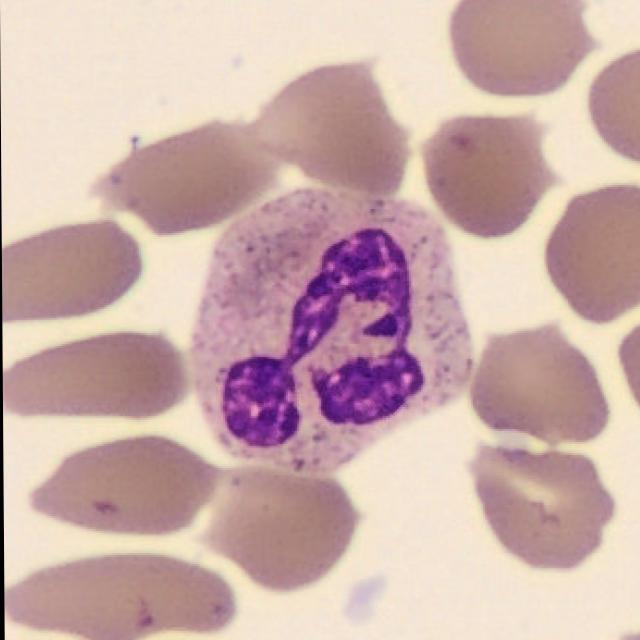Neutrofilo segmentado: (189, 185, 474, 475)
